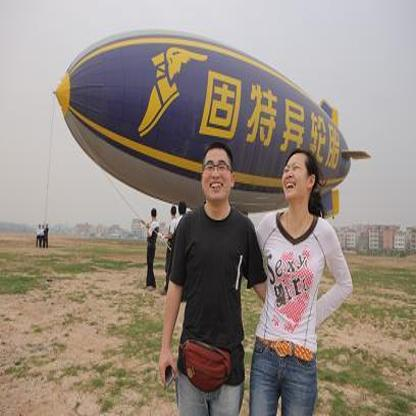Airship: (51, 27, 376, 225)
